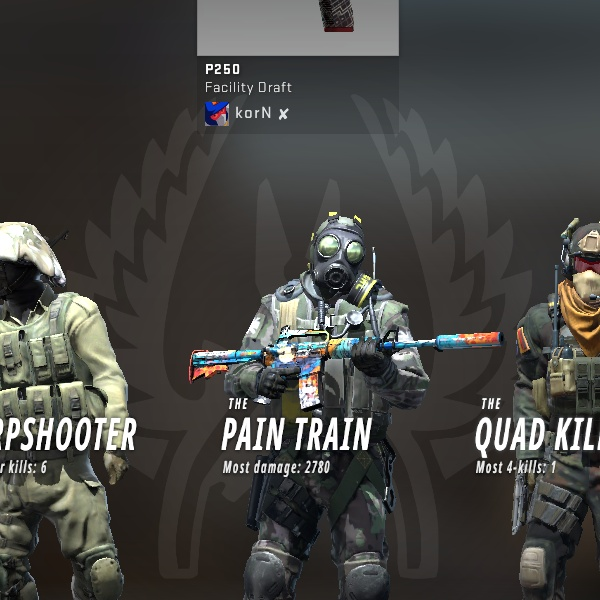ct_body: (217, 210, 416, 587), (0, 198, 155, 600)
ct_head: (0, 213, 67, 324), (553, 212, 598, 315)
